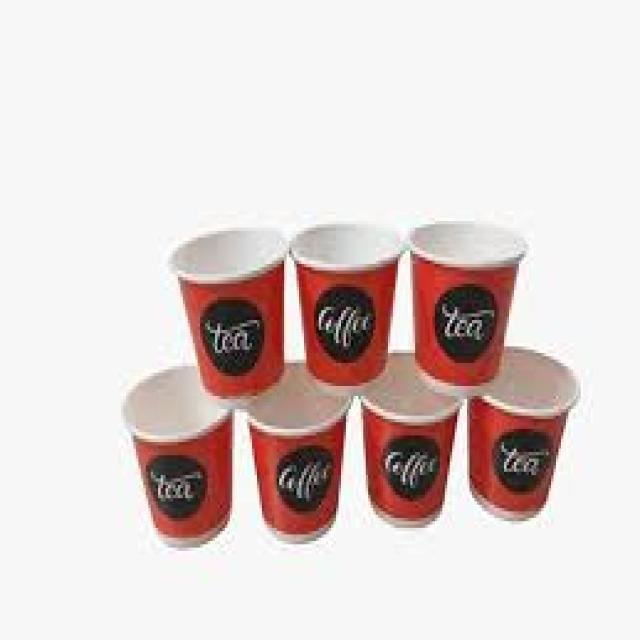PaperCardboard: (410, 210, 531, 391), (354, 337, 466, 530), (462, 345, 583, 520), (122, 370, 239, 547), (173, 227, 287, 399), (285, 218, 400, 378), (253, 365, 353, 533)
